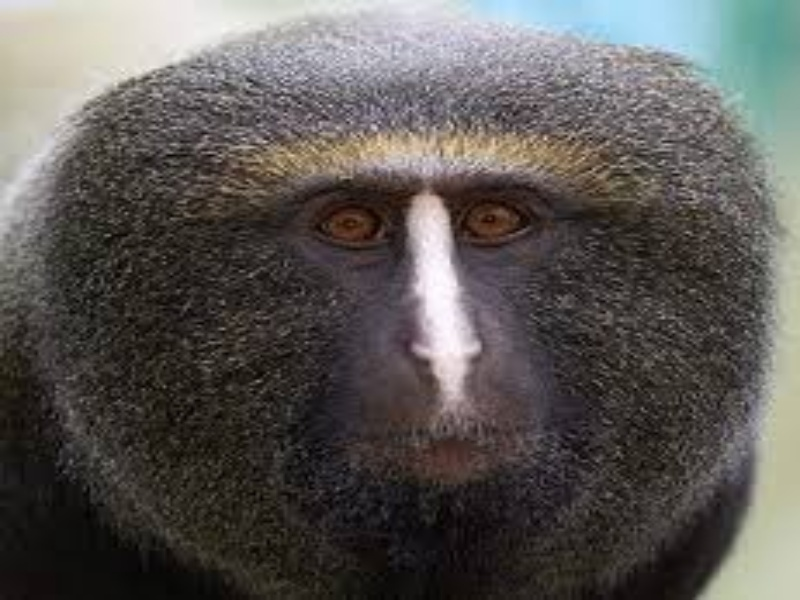monkey: (4, 11, 800, 587)
